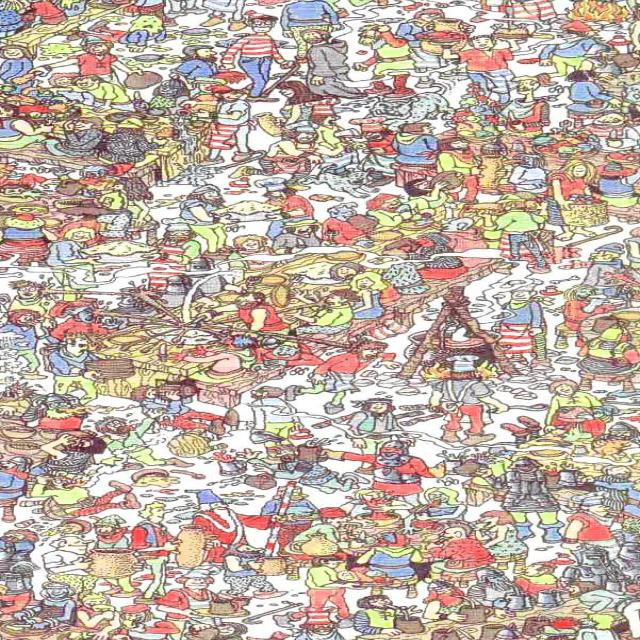waldo: (245, 9, 279, 33)
